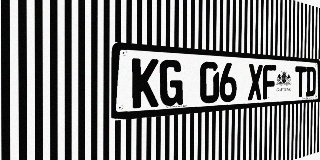0: (200, 61, 219, 104)
6: (219, 62, 237, 102)
D: (306, 67, 316, 97)
F: (263, 64, 276, 99)
G: (159, 59, 183, 107)
K: (132, 58, 159, 108)
T: (295, 66, 306, 97)
X: (248, 64, 263, 100)
